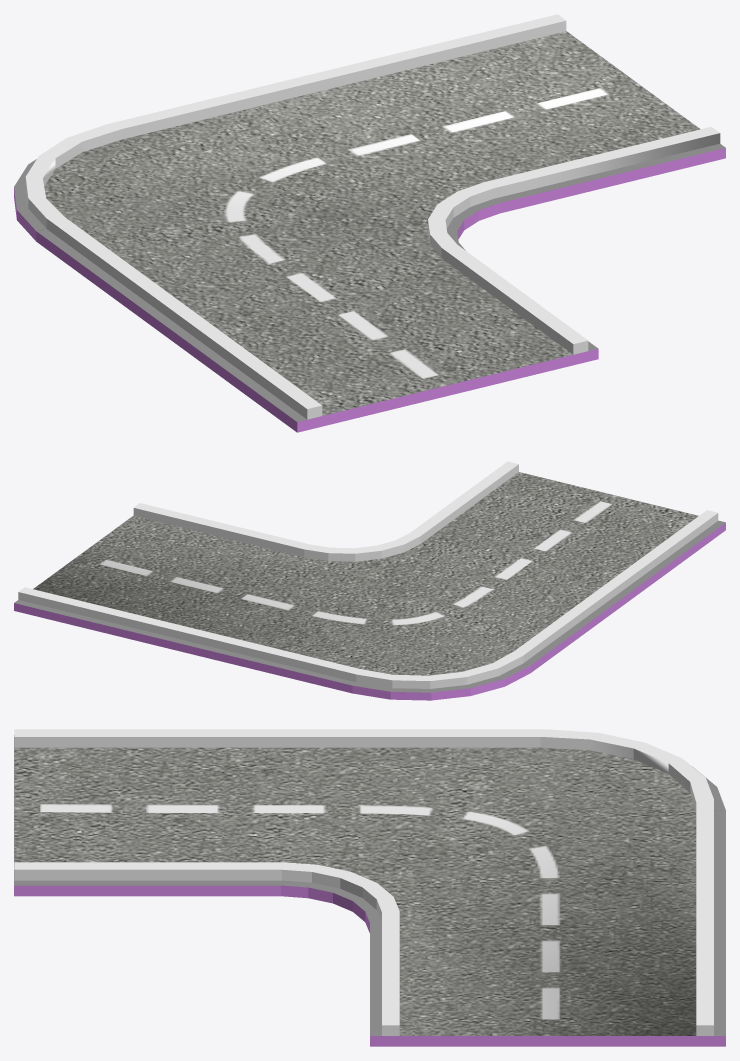
File: CORNER.fbx
3 views of the same model, one above another, from view 1: azimuth 30°, elevation 25°; view 2: azimuth 150°, elevation 25°; view 3: azimuth 270°, elevation 25° (orthographic). The views are drawn at different scales.
Visible parts, largest first — view 1: Corner; view 2: Corner; view 3: Corner.
Part boxes in pixels (x1,y1,x2,y2): Corner: [14, 14, 725, 432]; Corner: [14, 461, 725, 700]; Corner: [14, 729, 725, 1046].
Size of the model in its own units: 1200 by 40 by 1200.
